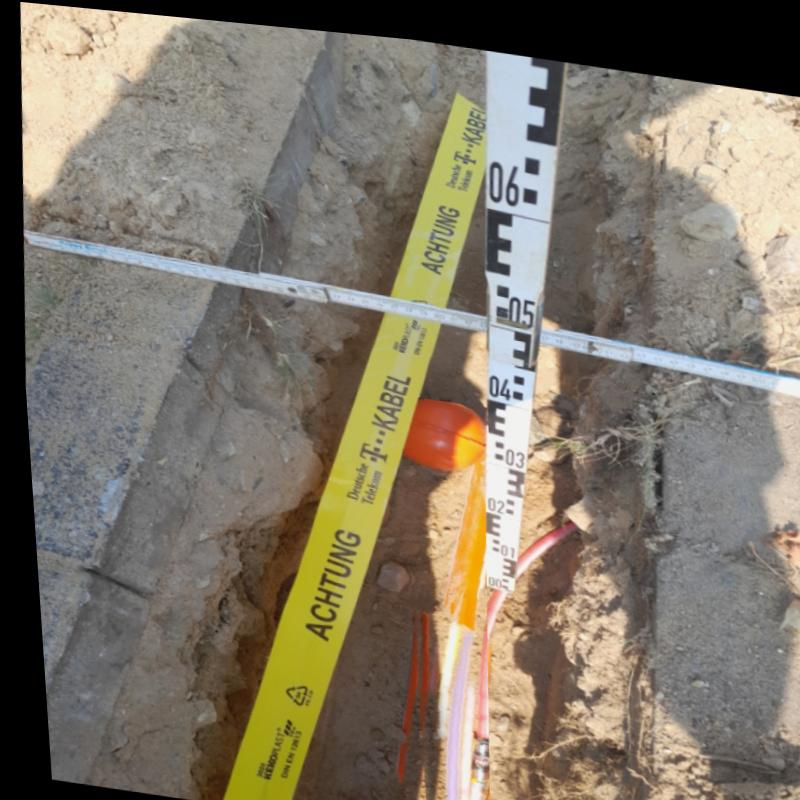Kugelmarker: (397, 392, 483, 463)
Orang-Speednetrohrchen: (409, 451, 479, 800)
